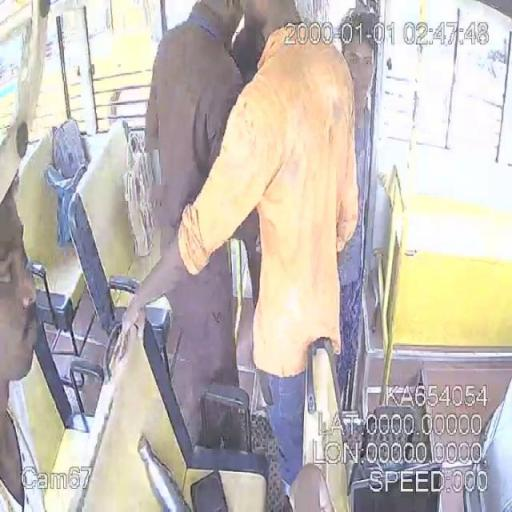persona: (118, 4, 361, 510), (116, 0, 255, 450), (336, 10, 387, 420), (0, 172, 47, 510)
